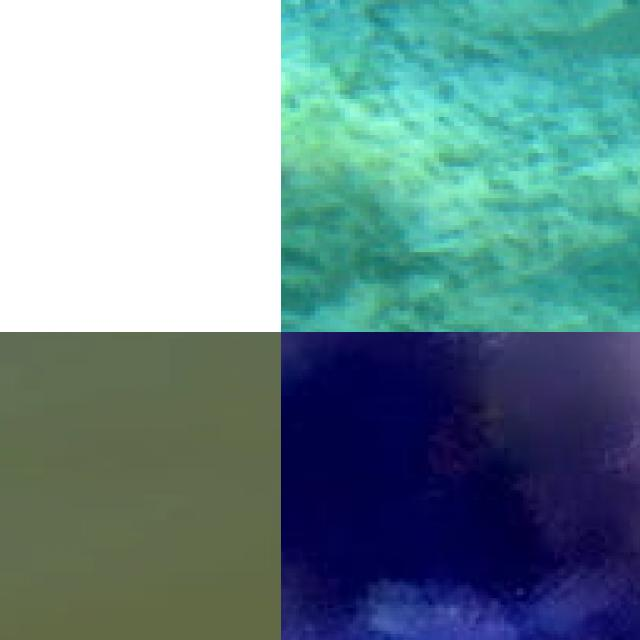fish: (0, 0, 281, 332), (488, 0, 640, 332)
